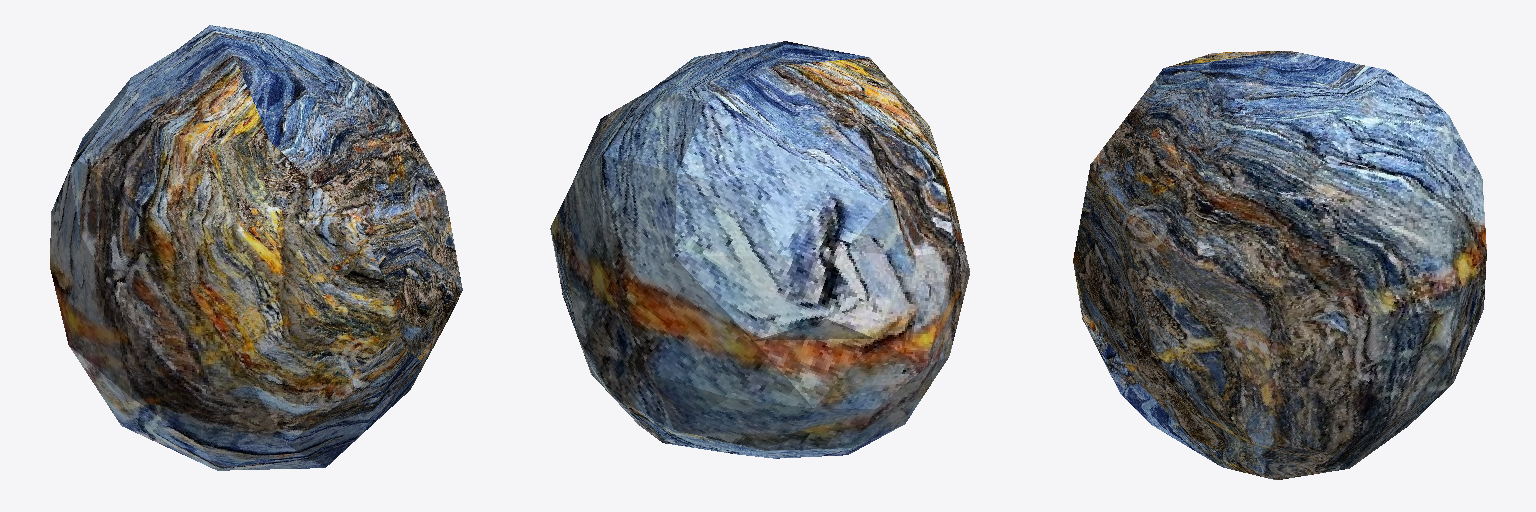
The picture shows the model from 3 angles: view 1: azimuth 30°, elevation 25°; view 2: azimuth 150°, elevation 25°; view 3: azimuth 270°, elevation 25°; orthographic projection.
Parts seen in each view (by area): view 1: rock.001_rock.002; view 2: rock.001_rock.002; view 3: rock.001_rock.002.
Part boxes in pixels (x1,y1,x2,y2): rock.001_rock.002: (50,25,462,470); rock.001_rock.002: (550,41,969,458); rock.001_rock.002: (1073,51,1486,479).
Bounding box in the file's own units: 2.41 × 2.63 × 2.5.
Materials: 1 (1 with a texture image).